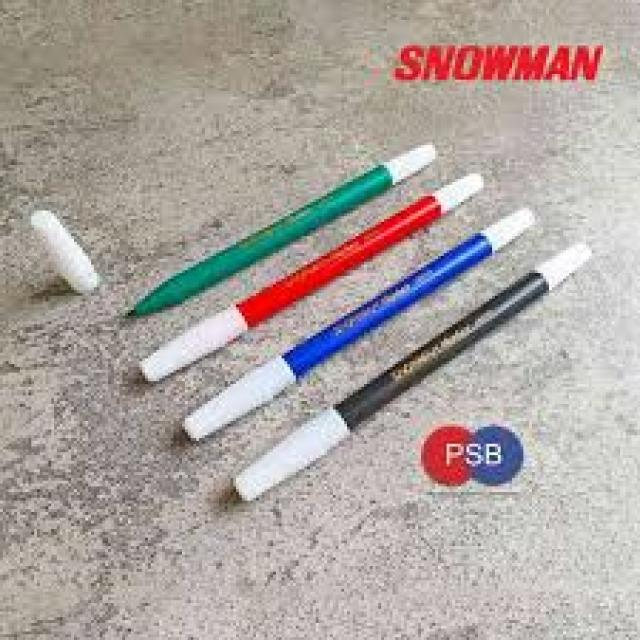marker: (240, 245, 593, 506), (131, 134, 442, 326)
